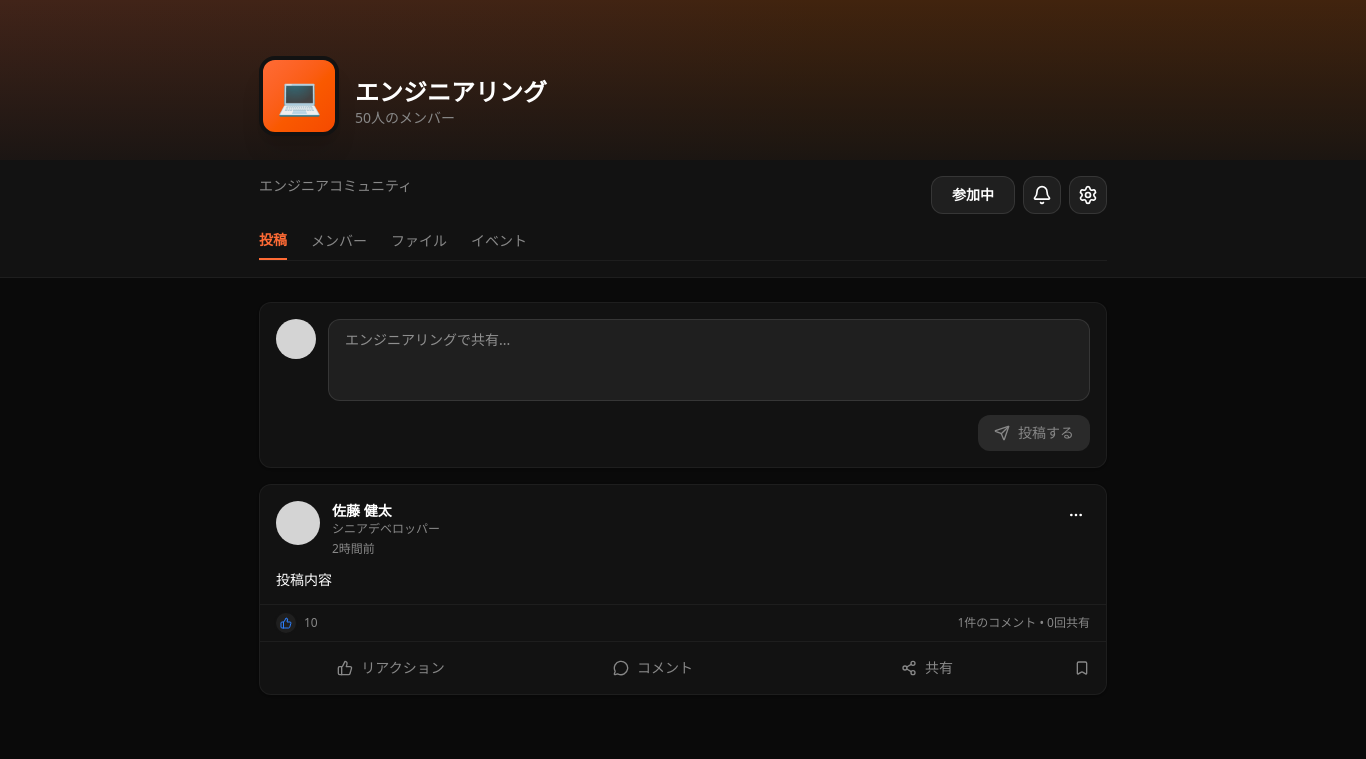
Profiles / CommentMetadata › should distinguish comment author from post author
# Expand comments
Click the button "コメント". click: (653,668)
box: [518,650,788,686]
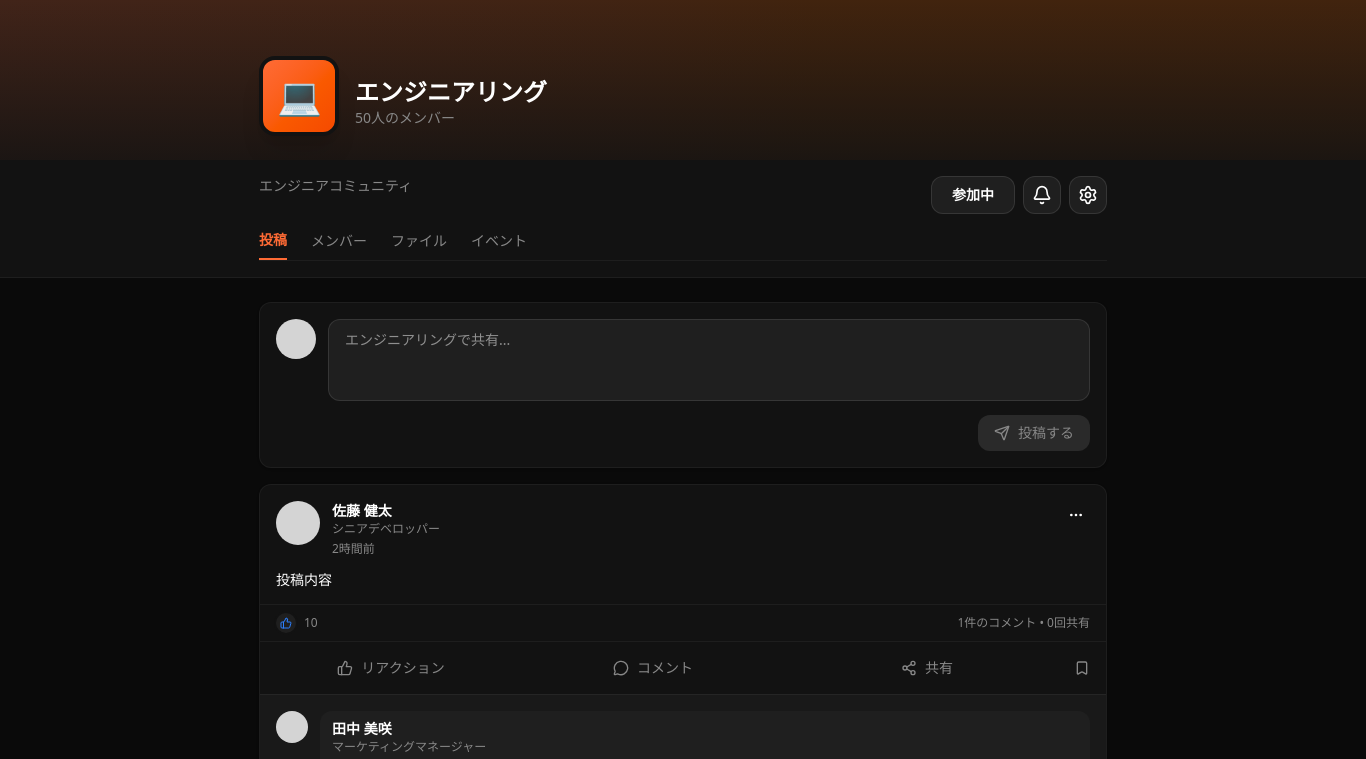
Expected: the heading "佐藤 健太" is shown, [332,501,392,520]
Now the heading "田中 美咲" is shown, box [332,719,392,738]
Now the text "マーケティングマネージャー" is shown, box [332,738,486,755]
